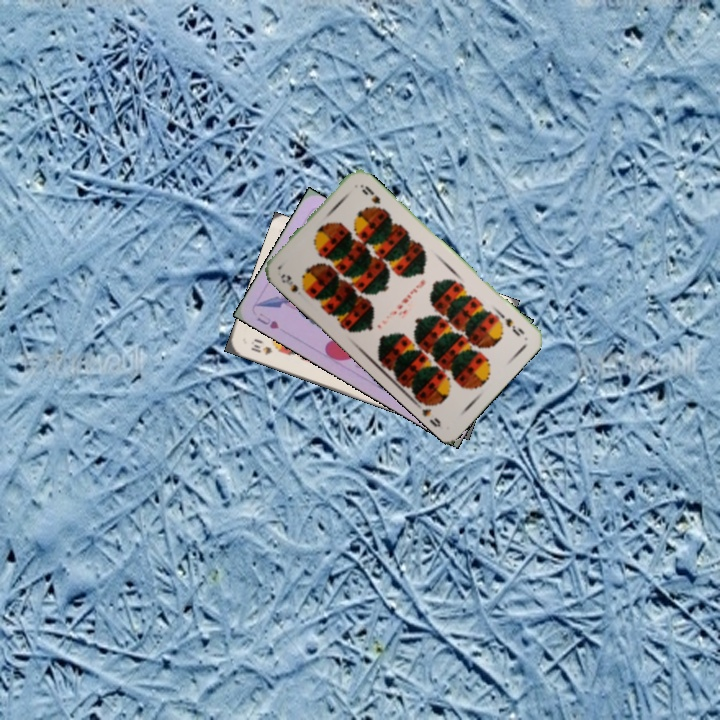HU: (253, 309, 281, 332)
S10: (247, 340, 275, 357)
S9: (276, 270, 311, 298), (501, 314, 527, 339)
